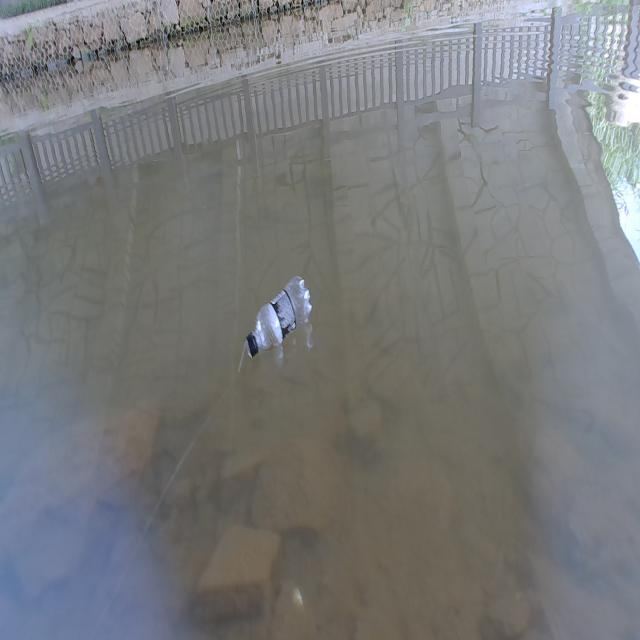Bottle: (245, 273, 312, 359)
